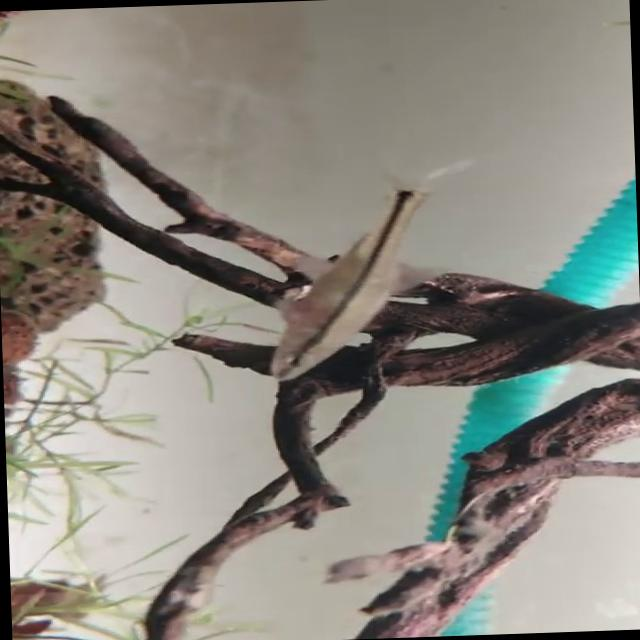Cakil Baligi: (260, 162, 478, 382)
